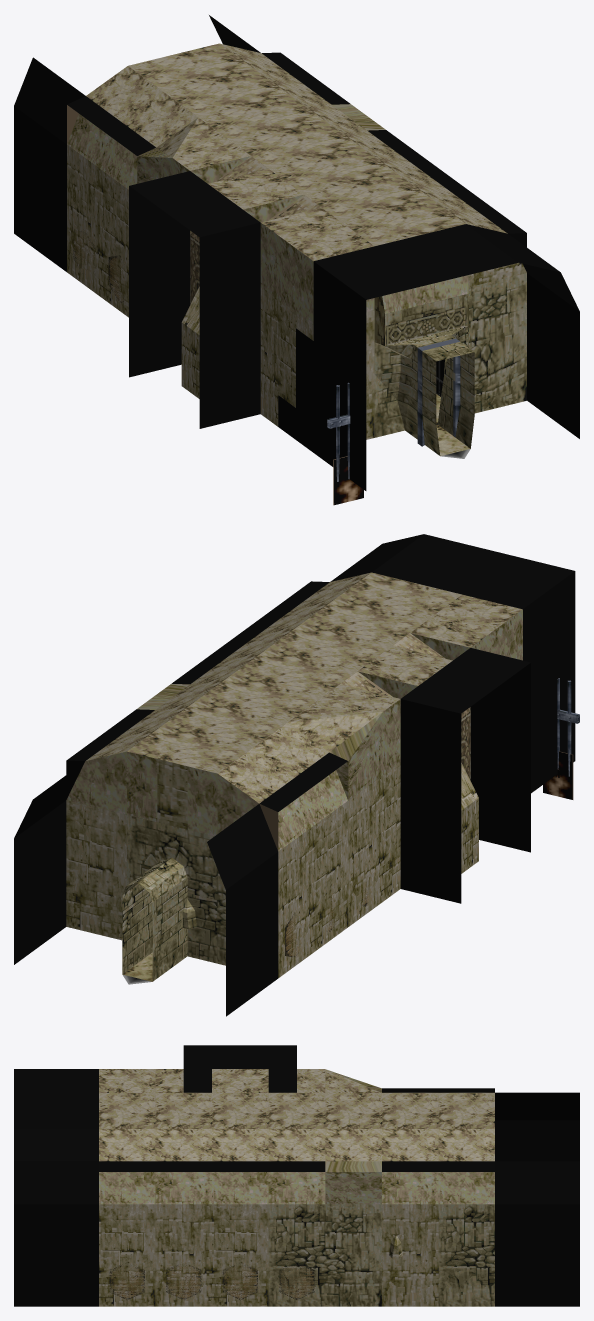
Rendered from MAP009.obj.
The picture shows the model from 3 angles, top to bottom: view 1: azimuth 30°, elevation 25°; view 2: azimuth 150°, elevation 25°; view 3: azimuth 270°, elevation 25°; orthographic projection. The views are drawn at different scales.
Visible parts, largest first — view 1: mesh_32, mesh_82, mesh_56, mesh_80, mesh_31, mesh_84, mesh_21, mesh_68, mesh_30, mesh_73, mesh_81, mesh_74 (+15 smaller); view 2: mesh_32, mesh_56, mesh_80, mesh_82, mesh_13, mesh_31, mesh_62, mesh_84, mesh_30, mesh_72, mesh_15, mesh_81 (+8 smaller); view 3: mesh_32, mesh_18, mesh_82, mesh_80, mesh_66, mesh_20, mesh_84, mesh_81, mesh_47, mesh_67, mesh_19, mesh_33.
Part boxes in pixels (x1,y1,x2,y2): mesh_32: (86, 43, 507, 261); mesh_82: (313, 224, 579, 490); mesh_56: (129, 186, 260, 428); mesh_80: (14, 15, 260, 271); mesh_31: (67, 145, 295, 381); mesh_84: (67, 96, 260, 237); mesh_21: (374, 325, 468, 439); mesh_68: (469, 273, 526, 400); mesh_30: (67, 114, 191, 233); mesh_73: (260, 223, 313, 324); mesh_81: (262, 52, 526, 247); mesh_74: (422, 341, 474, 455); mesh_32: (86, 572, 522, 803); mesh_56: (400, 663, 530, 903); mesh_80: (14, 761, 278, 1016); mesh_82: (330, 534, 575, 793); mesh_13: (122, 815, 217, 981); mesh_31: (278, 762, 400, 977); mesh_62: (66, 800, 126, 933); mesh_84: (259, 648, 530, 811); mesh_30: (278, 699, 470, 851); mesh_72: (348, 775, 400, 926); mesh_15: (127, 751, 258, 836); mesh_81: (66, 581, 329, 774); mesh_32: (99, 1069, 494, 1161); mesh_18: (99, 1204, 438, 1306); mesh_82: (14, 1069, 98, 1306); mesh_80: (495, 1092, 579, 1306); mesh_66: (268, 1204, 494, 1306); mesh_20: (99, 1172, 494, 1204); mesh_84: (183, 1045, 494, 1092); mesh_81: (99, 1161, 494, 1171); mesh_47: (109, 1263, 314, 1300); mesh_67: (382, 1255, 438, 1306); mesh_19: (354, 1256, 494, 1306); mesh_33: (325, 1070, 381, 1171).
Size of the model in its own units: 118 by 86 by 256.
Materials: 19 (19 with a texture image).
